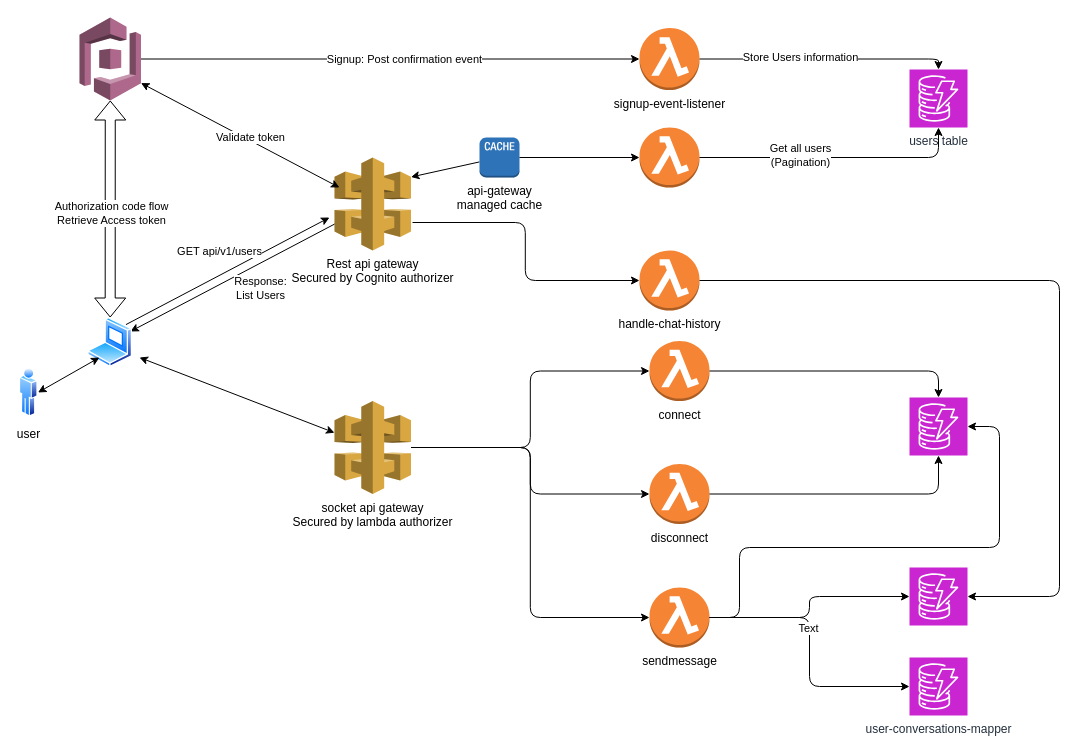
The diagram is 1085 pixels wide and 754 high, and some of its shapes have lost their labels. Here are the shapes that lost their labels. From the top down, the centre of each, then its label:
At point 109,58: "AWS Cognito".
At point 669,157: "handle users request".
At point 109,342: "client-app".
At point 938,426: "Connections table".
At point 938,596: "conversations".
